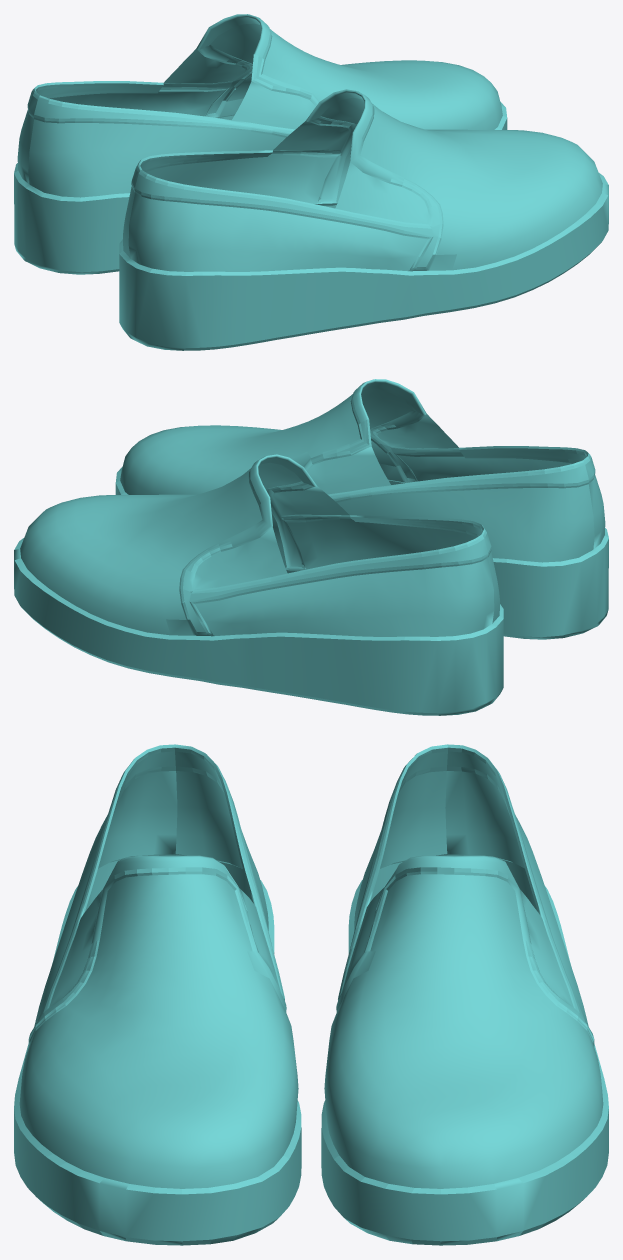
The model's file is shoeslight5.fbx.
3 views of the same model, one above another, from view 1: azimuth 30°, elevation 25°; view 2: azimuth 150°, elevation 25°; view 3: azimuth 270°, elevation 25° (orthographic). The views are drawn at different scales.
Parts seen in each view (by area): view 1: Right_loafer, Left_loafer; view 2: Left_loafer, Right_loafer; view 3: Left_loafer, Right_loafer.
Part boxes in pixels (x1,y1,x2,y2): Right_loafer: [119, 89, 608, 350]; Left_loafer: [14, 14, 507, 274]; Left_loafer: [14, 454, 503, 715]; Right_loafer: [115, 379, 608, 639]; Left_loafer: [321, 744, 608, 1245]; Right_loafer: [14, 744, 301, 1245].
Size of the model in its own units: 26.87 by 10.33 by 21.93.
